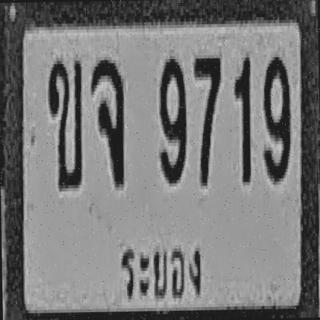A02: (46, 58, 82, 188)
A08: (90, 58, 124, 186)
N01: (233, 54, 252, 182)
N07: (193, 55, 222, 186)
N09: (158, 55, 187, 183), (262, 54, 290, 182)
P53: (116, 224, 206, 309)
